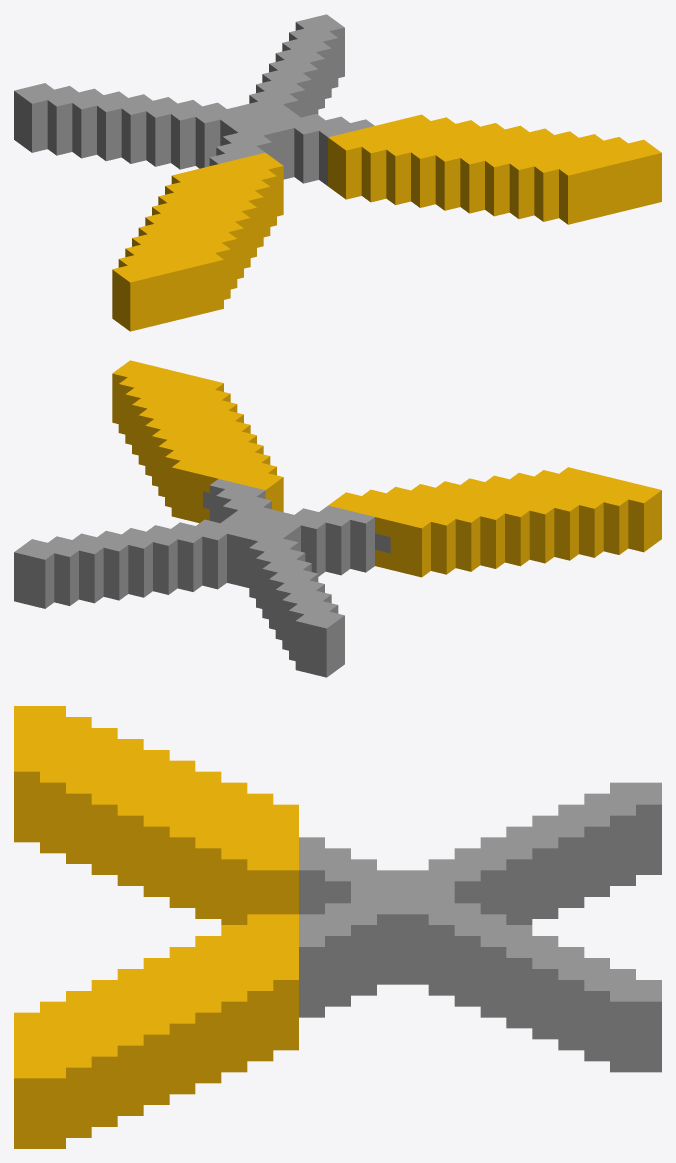
Rendered from ножницы.obj.
The picture shows the model from 3 angles, top to bottom: view 1: azimuth 30°, elevation 25°; view 2: azimuth 150°, elevation 25°; view 3: azimuth 270°, elevation 25°; orthographic projection. The views are drawn at different scales.
Size of the model in its own units: 3.4 by 0.3 by 2.5.
Materials: 1 (1 with a texture image).
